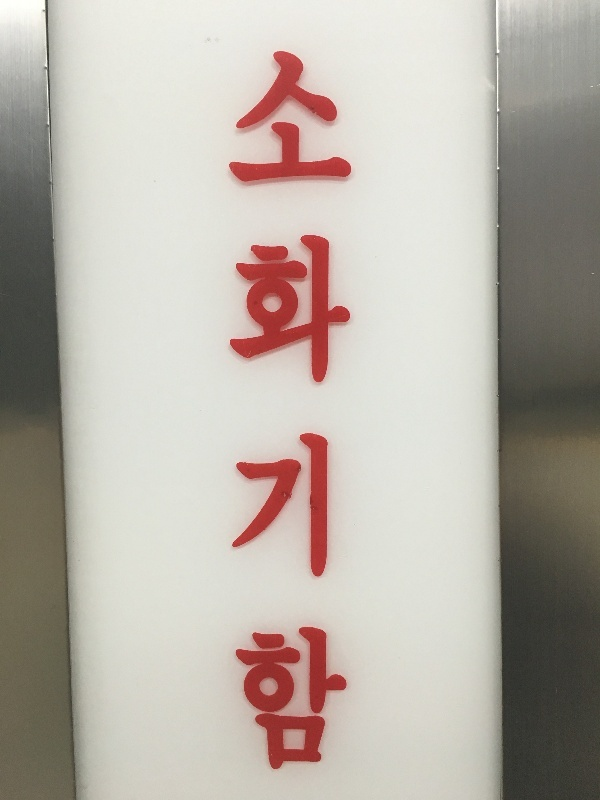text: (241, 44, 256, 775), (257, 44, 272, 775), (273, 44, 288, 775), (289, 44, 304, 775), (305, 44, 320, 775), (321, 44, 336, 775), (337, 44, 352, 775), (228, 44, 240, 775), (353, 44, 356, 775)
